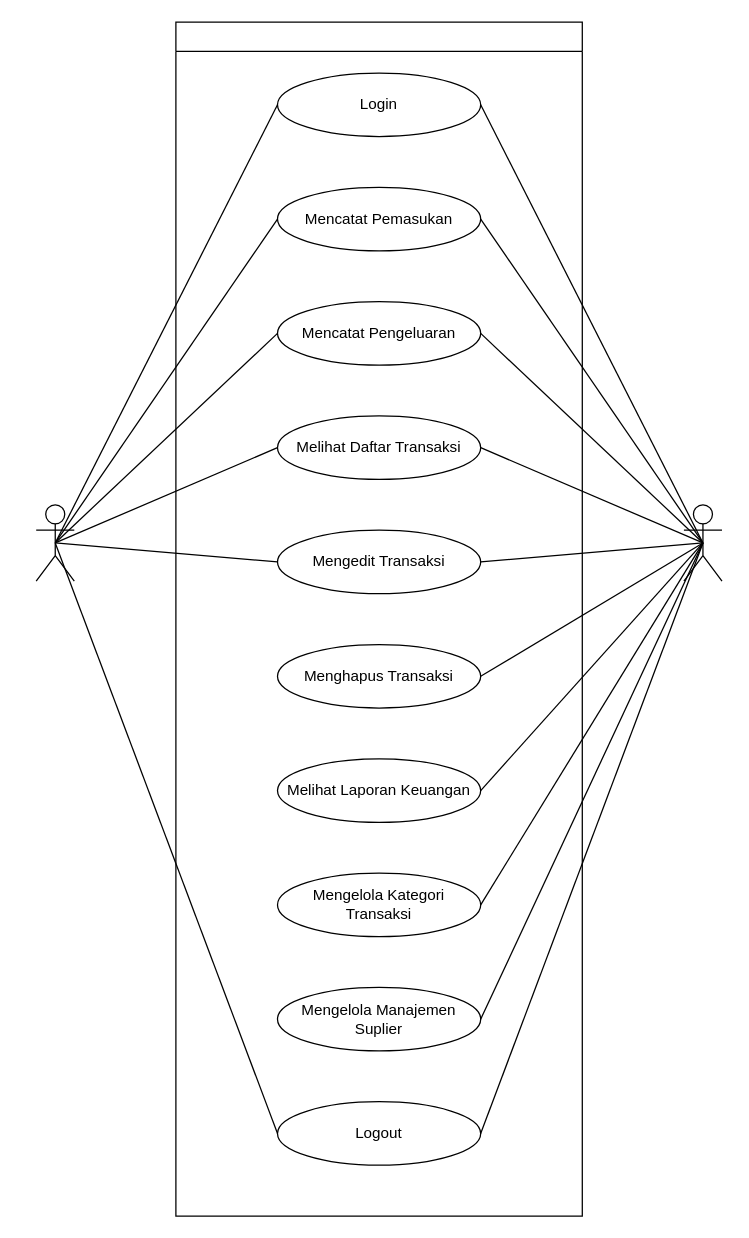
Image size: 749x1238. Some labels were removed from this diagram. Each missing label, with the centre of its shape:
Karyawan: the point at 54,542
Pemilik: the point at 702,542
Use Case Diagram: the point at 378,618
